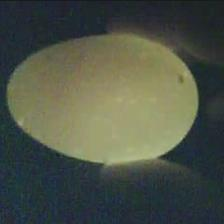infertile: (6, 32, 200, 164)
